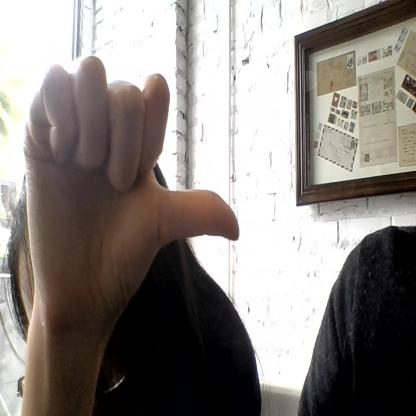left: (23, 54, 240, 317)
